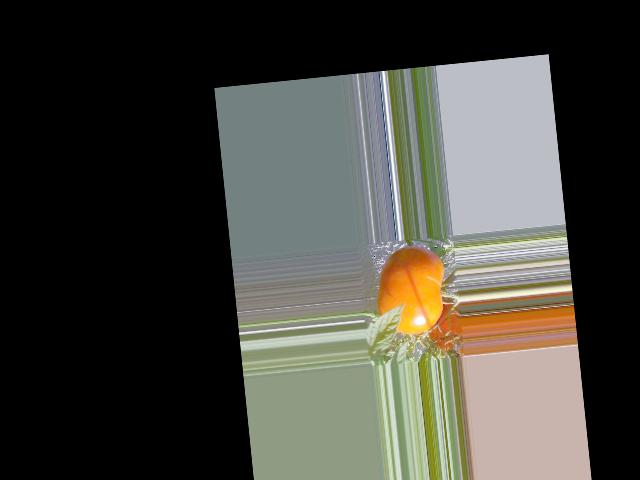tomato: (372, 243, 450, 338)
